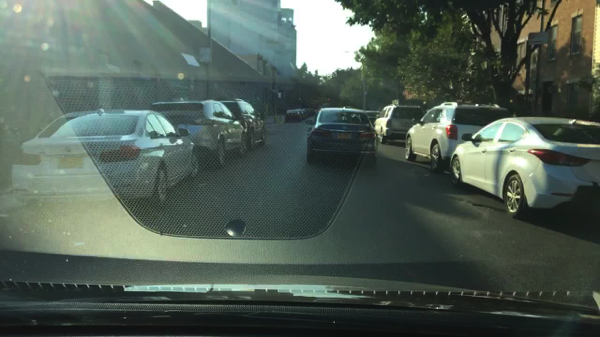car: (10, 107, 200, 205), (448, 116, 598, 218), (404, 99, 511, 174), (151, 100, 247, 170), (306, 107, 379, 165), (217, 99, 266, 151), (373, 100, 426, 144), (362, 110, 381, 128), (284, 109, 304, 123), (296, 108, 308, 122), (304, 107, 315, 116), (309, 108, 319, 115), (343, 106, 357, 109)
traffic sign: (527, 32, 549, 45), (198, 46, 210, 64), (277, 90, 282, 99)
